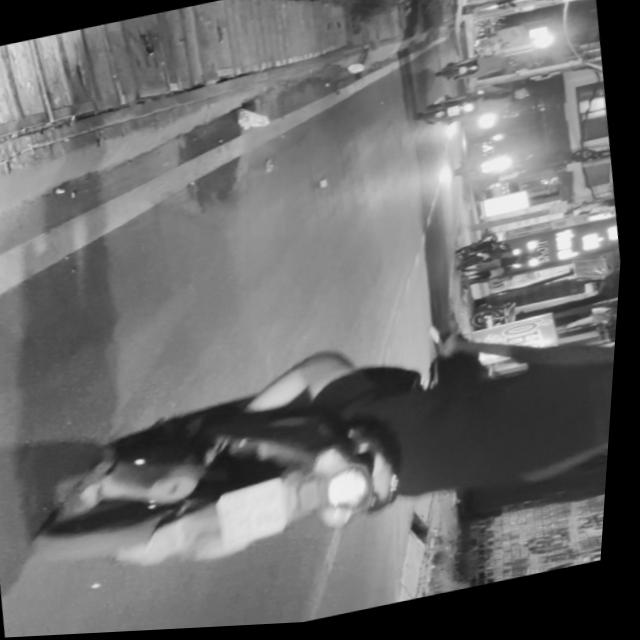licenseplate: (11, 295, 623, 612)
nohelmet: (225, 482, 298, 552)
